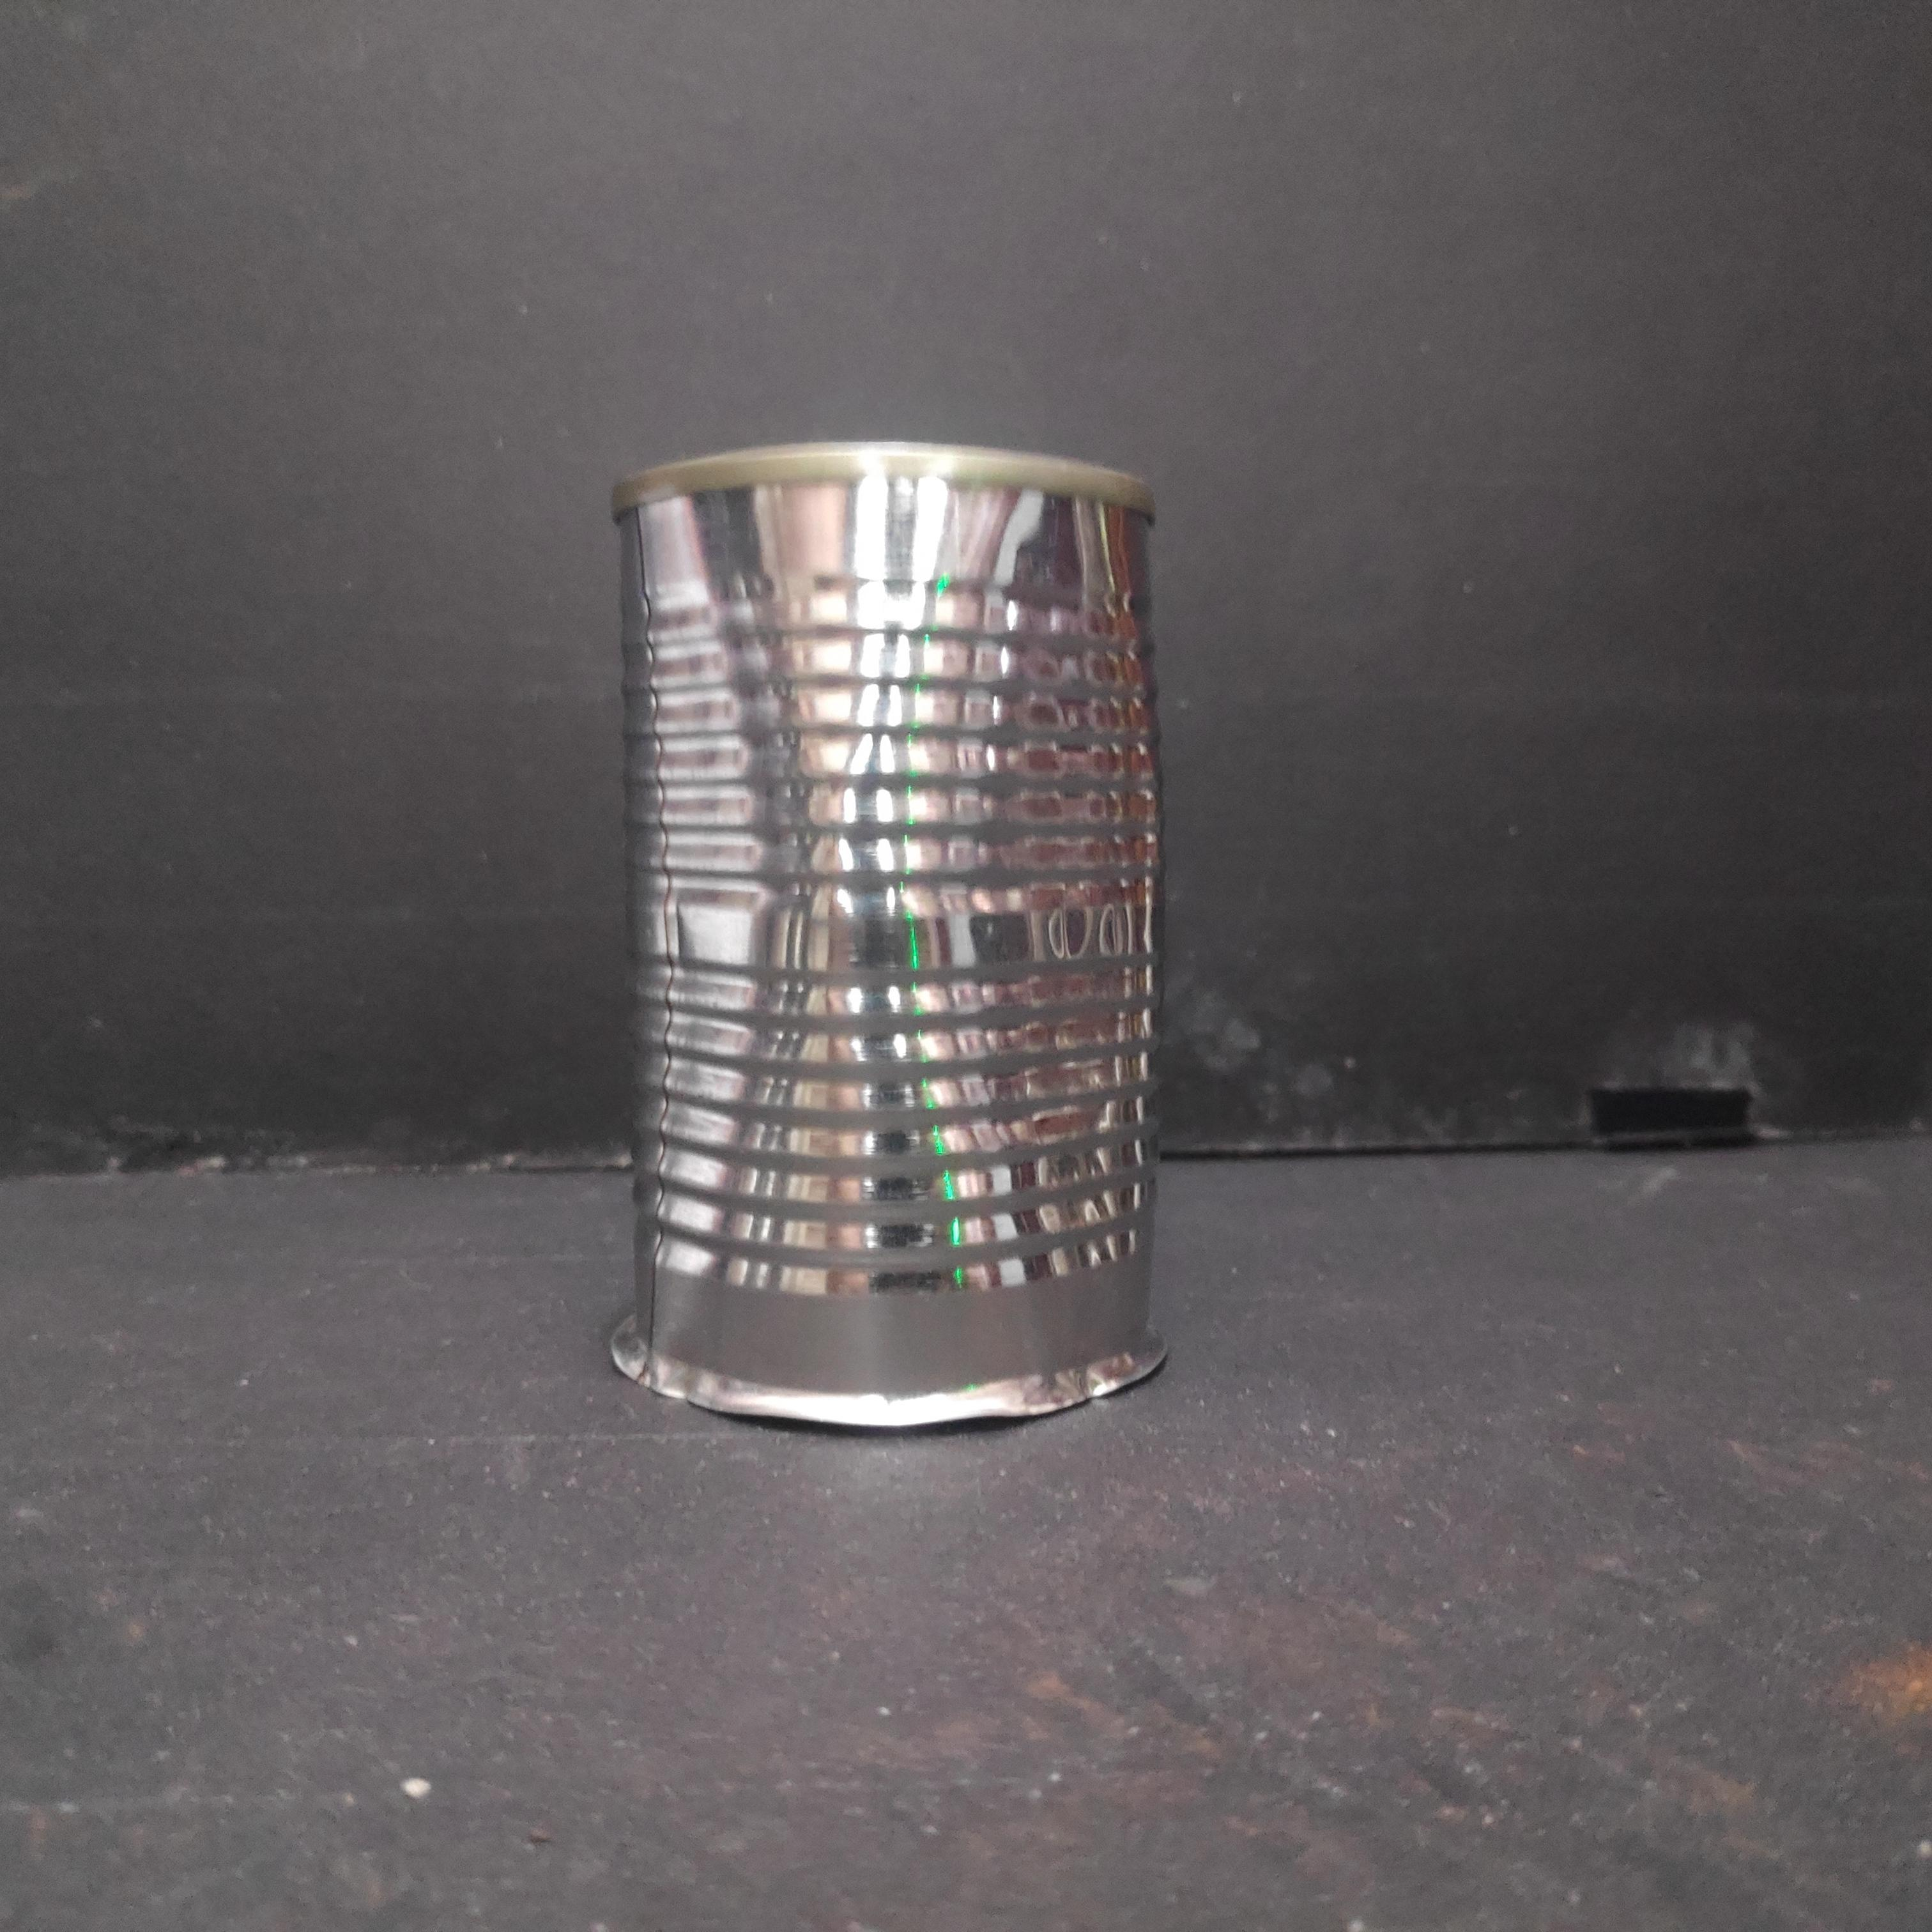Minor Defect: (605, 435, 1185, 1451)
